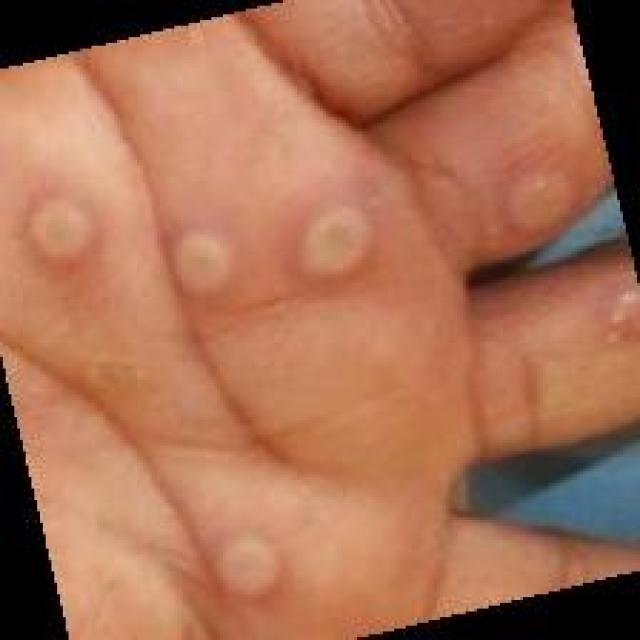monkeypox: (52, 111, 608, 562)
